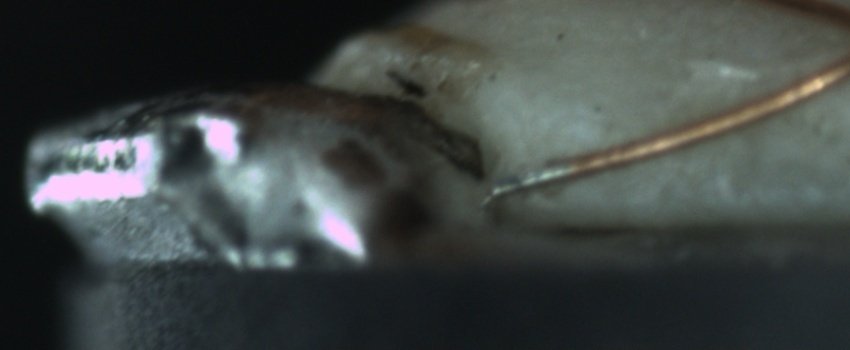TS: (490, 161, 574, 197)
